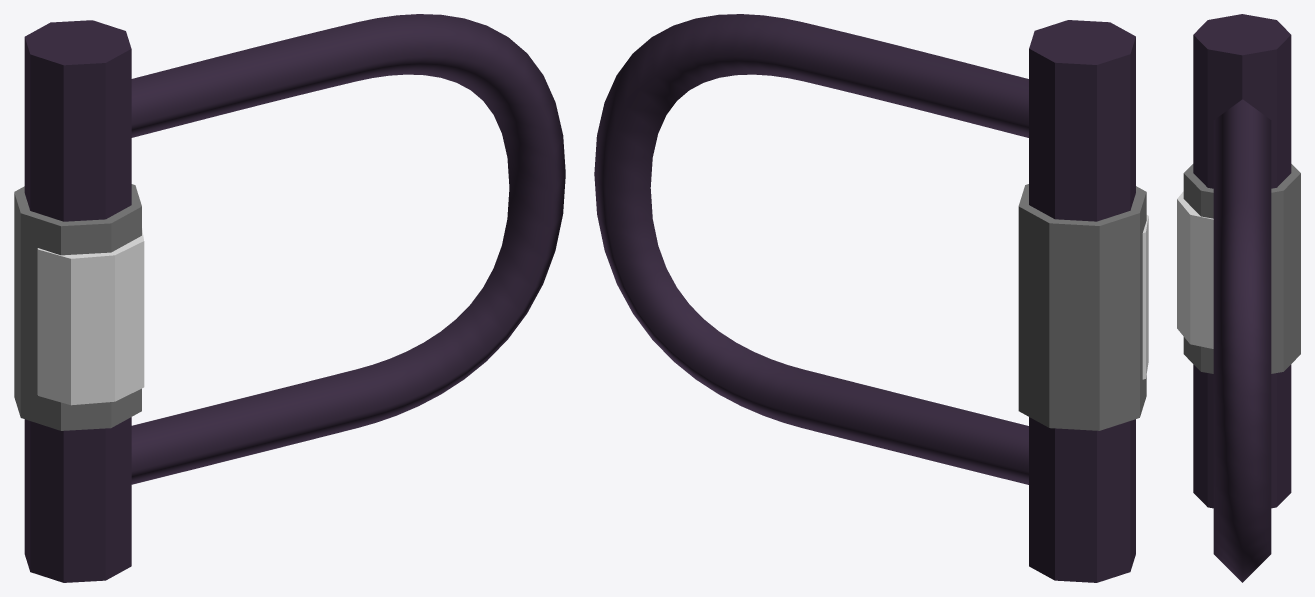
The model's file is Padlock.fbx.
3 views of the same model, side by side, from view 1: azimuth 30°, elevation 25°; view 2: azimuth 150°, elevation 25°; view 3: azimuth 270°, elevation 25° (orthographic). The views are drawn at different scales.
Visible parts, largest first — view 1: BézierCurve, Cylinder, Cylinder.002, Cylinder.001; view 2: BézierCurve, Cylinder, Cylinder.001, Cylinder.002; view 3: BézierCurve, Cylinder, Cylinder.001, Cylinder.002.
Part boxes in pixels (<box>): BézierCurve: <box>131,14,565,484</box>; Cylinder: <box>24,20,131,582</box>; Cylinder.002: <box>37,228,144,405</box>; Cylinder.001: <box>14,184,141,430</box>; BézierCurve: <box>594,14,1028,484</box>; Cylinder: <box>1029,20,1135,582</box>; Cylinder.001: <box>1018,184,1146,430</box>; Cylinder.002: <box>1142,215,1148,379</box>; BézierCurve: <box>1213,99,1271,582</box>; Cylinder: <box>1193,14,1291,508</box>; Cylinder.001: <box>1183,164,1300,373</box>; Cylinder.002: <box>1177,191,1213,348</box>.
Size of the model in its own units: 45.81 by 10.18 by 41.57.
